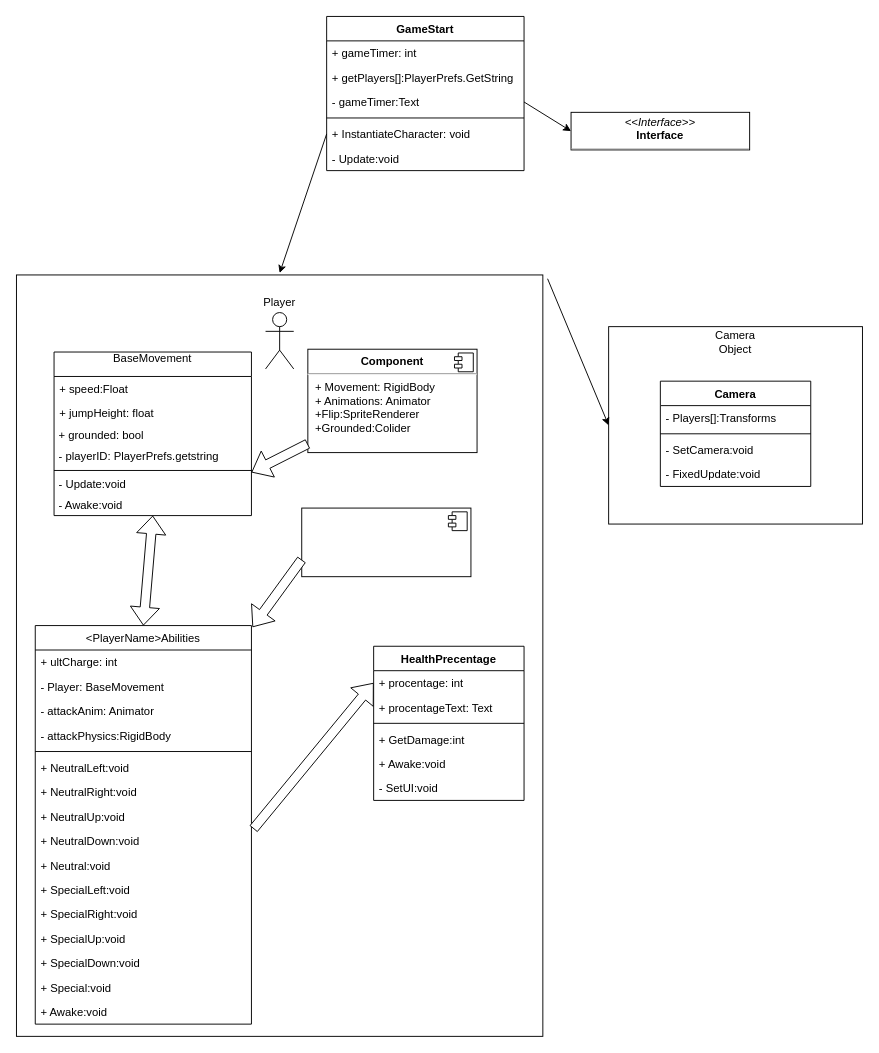
This 879x1053 diagram has some shape labels left out. Each missing label, with the centre of its shape:
Actor: point (279, 340)
Component + attackAnim:Animator + getHits:Colider: point (386, 542)
